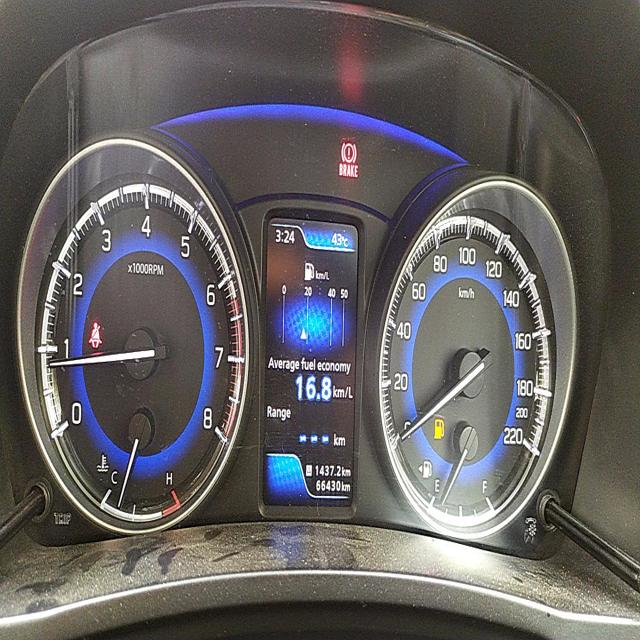odometer: (313, 478, 341, 495)
